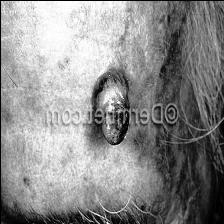Potentially Malignant Skin Tumors: (88, 61, 130, 143)
